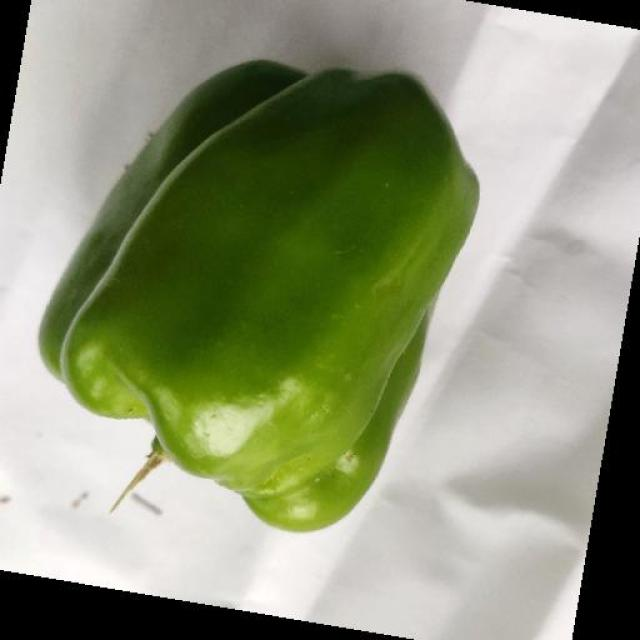Fresh_Capsicum: (160, 210, 340, 472)
